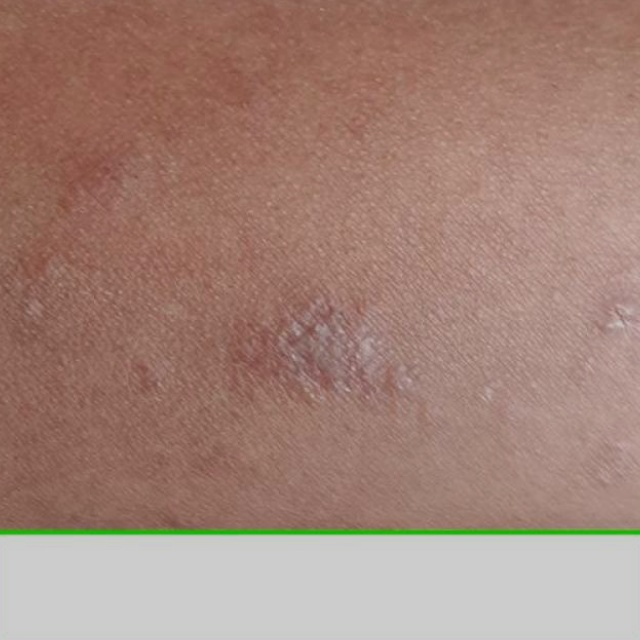Scabies: (0, 532, 639, 639)
